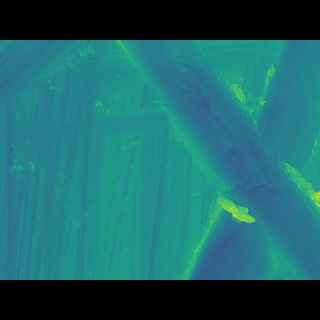Loch: (111, 69, 320, 244)
